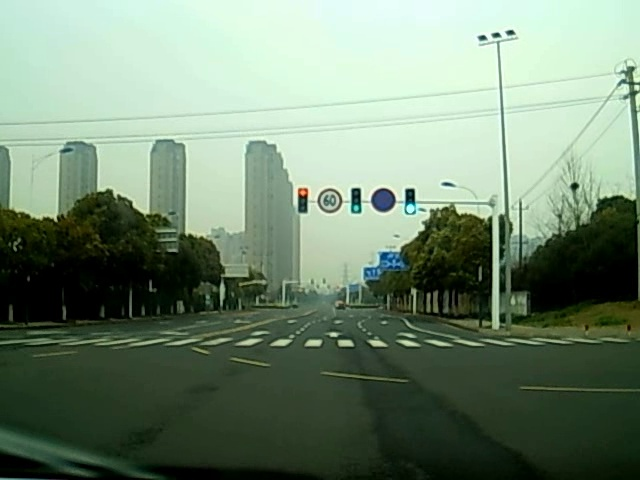Traffic_Light_go: (350, 187, 363, 216), (404, 188, 417, 216)
Traffic_Light_stop: (296, 186, 308, 216)
